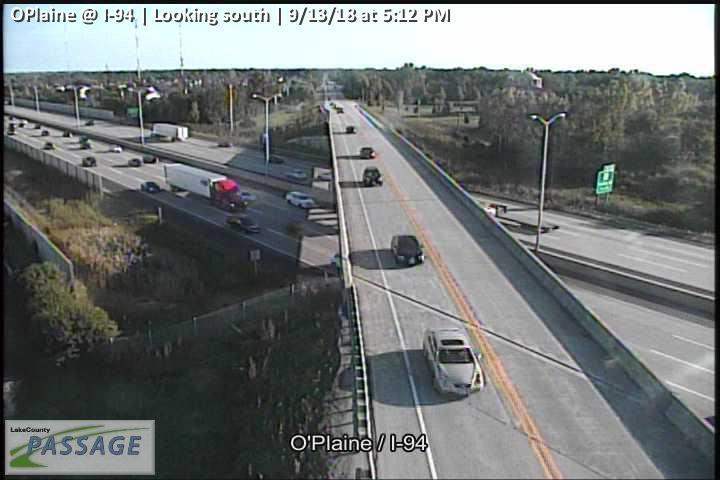SUV: (227, 216, 258, 233), (286, 191, 314, 209), (362, 166, 382, 186)
Sedan: (423, 327, 486, 396), (391, 235, 424, 265), (141, 181, 159, 191), (359, 148, 375, 159), (346, 125, 356, 134)
Truck: (165, 163, 241, 211), (150, 122, 188, 141)
